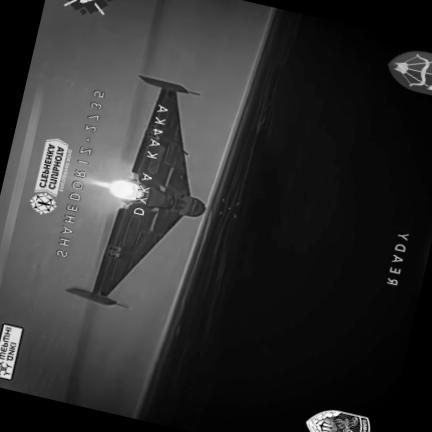Shahed: (66, 74, 205, 306)
